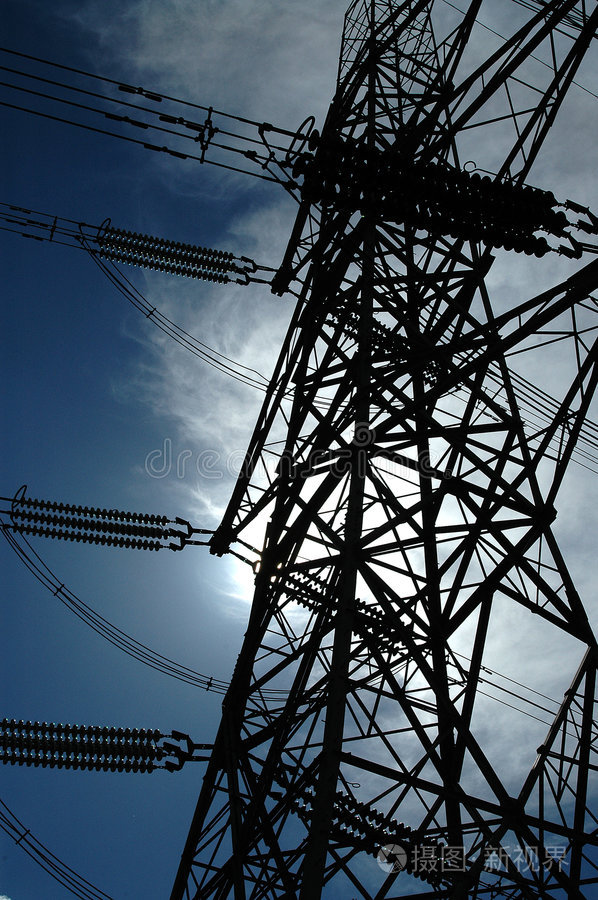insulator: (3, 714, 165, 777), (10, 497, 170, 552), (95, 228, 236, 288)
